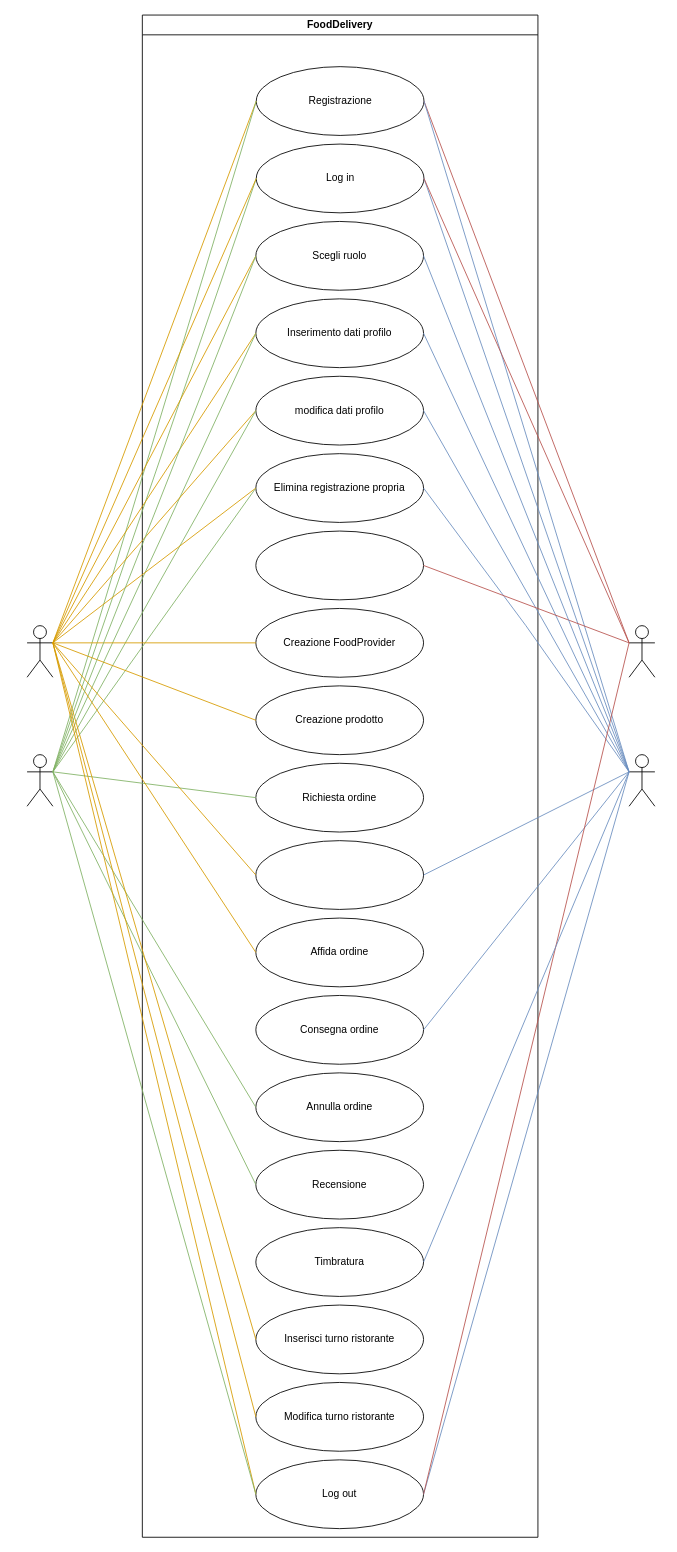
Image size: 677x1552. Some labels were removed from this diagram. Here are the shapes that lost their labels. From the top down, the centre of each, then its label:
the point at 339,565: Elimina registrazione altrui
the point at 39,651: Ristoratore
the point at 641,651: Admin
the point at 39,780: Cliente
the point at 641,780: Fattorino
the point at 339,874: Ricevere ordine
